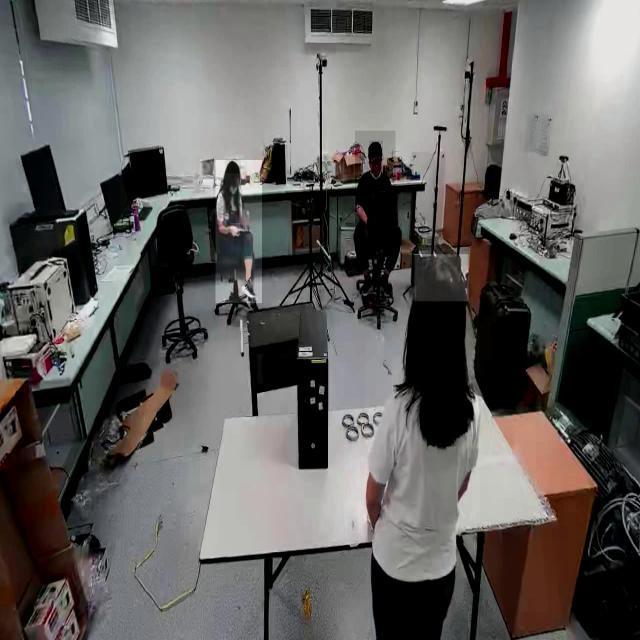face_nomask: (370, 156, 382, 176)
hand_noglove: (230, 223, 240, 237)
head_nohelmet: (414, 254, 468, 302), (225, 159, 241, 174), (369, 140, 383, 156)
person: (366, 249, 480, 639), (215, 160, 262, 304), (354, 130, 396, 250)
shoes: (241, 274, 257, 301), (378, 271, 392, 299), (361, 272, 374, 298)
